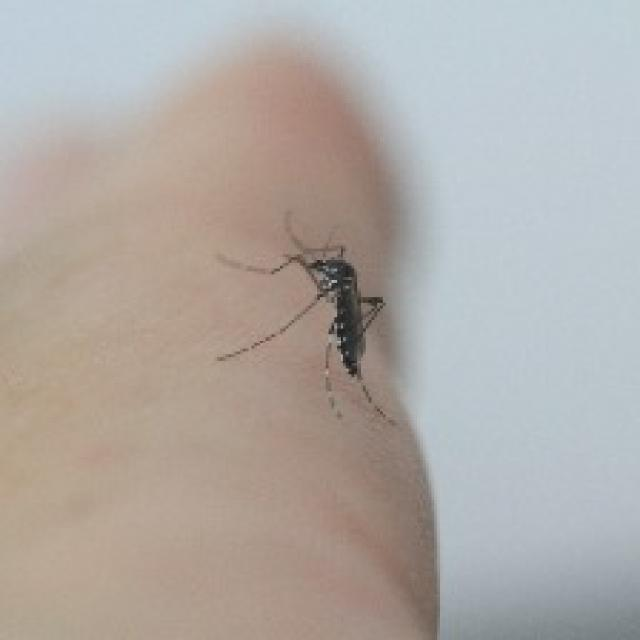aedes: (211, 206, 400, 426)
